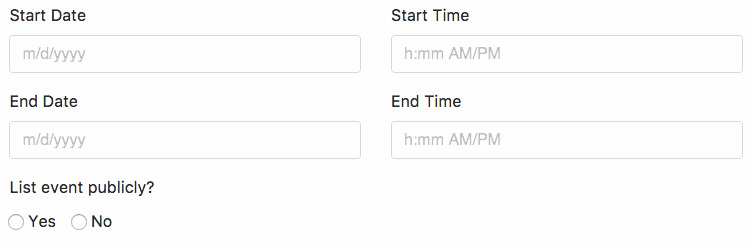_form_: (335, 1, 752, 248), (1, 1, 416, 248)
field: (391, 119, 747, 162), (6, 119, 364, 160), (7, 34, 364, 75), (388, 33, 745, 74)
field_with_label: (5, 7, 367, 77), (389, 95, 749, 163), (386, 9, 747, 76), (4, 95, 365, 162)
radio: (7, 212, 28, 233), (70, 212, 88, 233)
radio_with_label: (4, 209, 55, 236), (66, 209, 115, 235)
